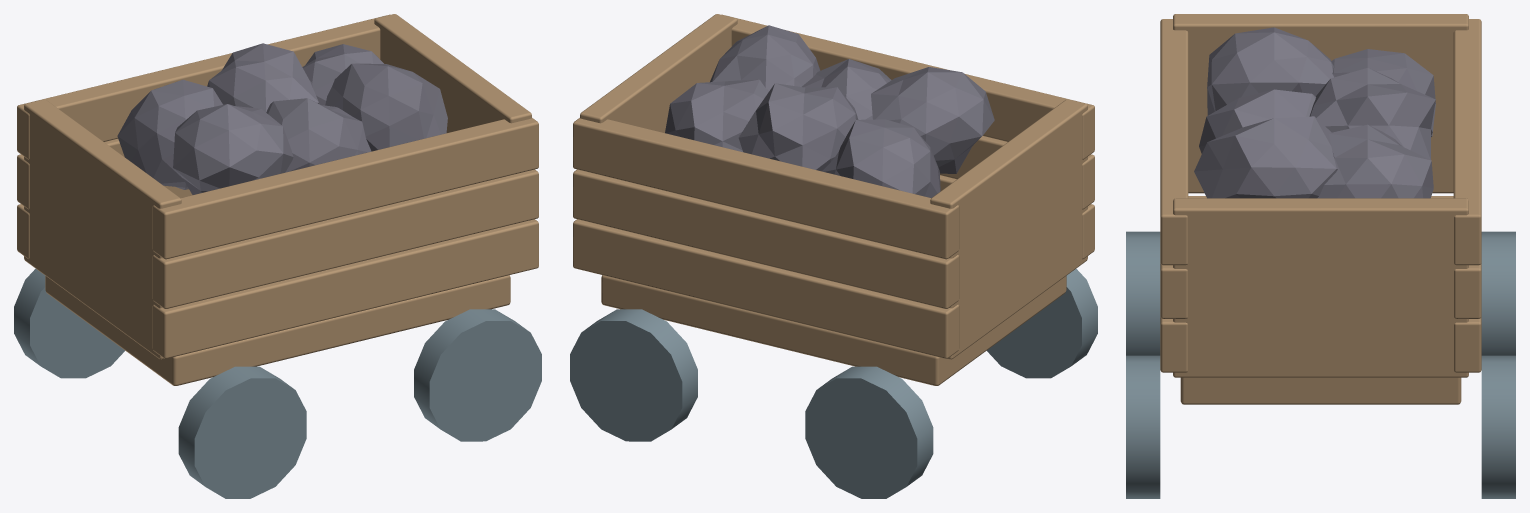
The model's file is minecart.glb.
3 renders of one model, left to right at view 1: azimuth 30°, elevation 25°; view 2: azimuth 150°, elevation 25°; view 3: azimuth 270°, elevation 25°, orthographic. The views are drawn at different scales.
Visible parts, largest first — view 1: minecart; view 2: minecart; view 3: minecart.
Boxes of the visible parts, x1,y1,x2,y2 form: minecart: (14,14,541,498); minecart: (570,14,1097,498); minecart: (1126,14,1515,498).
Size of the model in its own units: 1.5 by 1.27 by 1.25.
